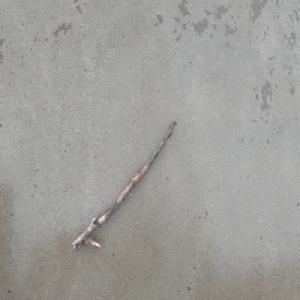Wood: (71, 118, 178, 252)
